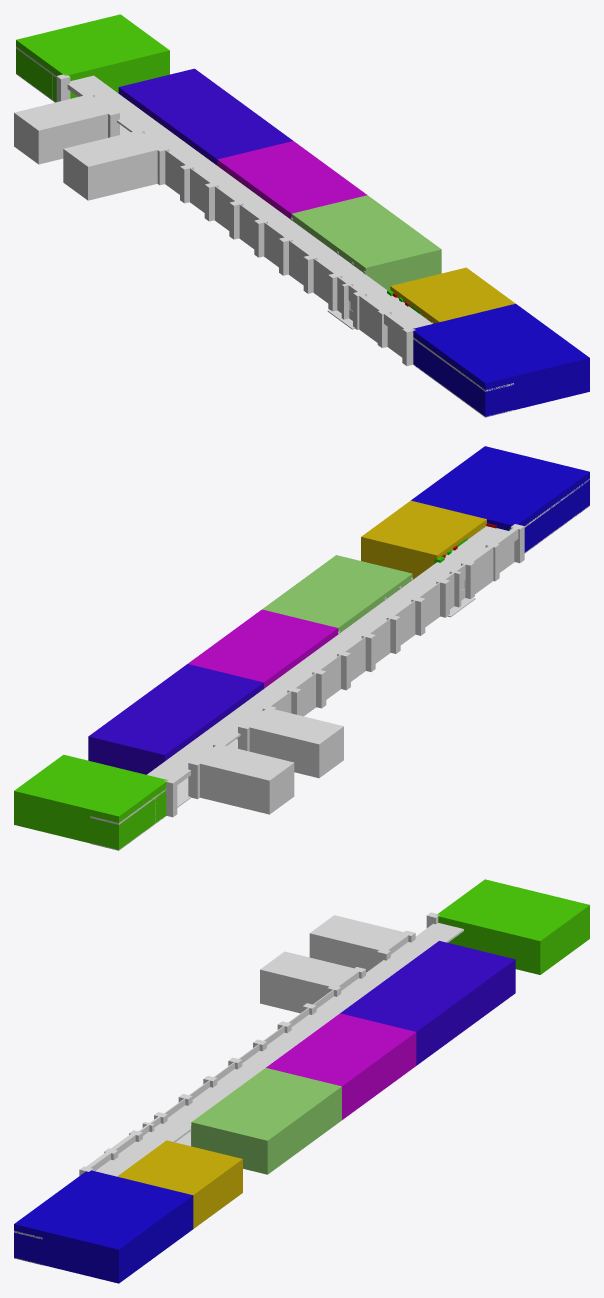
File: BaseModel_Ver5_2F.fbx
3 views of the same model, one above another, from view 1: azimuth 30°, elevation 25°; view 2: azimuth 150°, elevation 25°; view 3: azimuth 330°, elevation 25° (orthographic).
Parts seen in each view (by area): view 1: 部屋.002, 部屋, 事務室, 床.005, 職員室, 校長室, 部屋.003, 部屋.004, 部屋.001, Cube.047, Cube.031, Cube.049; view 2: 部屋, 部屋.002, 事務室, 床.005, 校長室, 職員室, 部屋.001, 部屋.004, 部屋.003, Cube.047, Cube.031, Cube.049 (+1 smaller); view 3: 部屋.002, 事務室, 職員室, 部屋, 校長室, 床.005, 部屋.001, 部屋.003, 部屋.004, Cube.047.
Part boxes in pixels (box(x1,y1,x2,y2)): 部屋.002: box(412, 303, 589, 416); 部屋: box(16, 14, 169, 102); 事務室: box(118, 68, 292, 165); 床.005: box(16, 46, 513, 391); 職員室: box(291, 195, 441, 290); 校長室: box(217, 141, 367, 219); 部屋.003: box(63, 132, 163, 200); 部屋.004: box(14, 95, 112, 164); 部屋.001: box(390, 267, 515, 323); Cube.047: box(165, 150, 336, 278); Cube.031: box(165, 172, 328, 303); Cube.049: box(359, 294, 410, 336); 部屋: box(14, 754, 168, 849); 部屋.002: box(411, 446, 589, 552); 事務室: box(88, 664, 263, 774); 床.005: box(90, 478, 589, 824); 校長室: box(188, 609, 338, 688); 職員室: box(262, 555, 412, 632); 部屋.001: box(361, 500, 486, 579); 部屋.004: box(195, 744, 294, 814); 部屋.003: box(245, 709, 343, 778); Cube.047: box(270, 580, 441, 710); Cube.031: box(301, 604, 439, 716); Cube.049: box(468, 526, 519, 570); 部屋.002: box(14, 1170, 193, 1283); 事務室: box(340, 941, 515, 1065); 職員室: box(191, 1068, 341, 1174); 部屋: box(436, 879, 589, 974); 校長室: box(266, 1013, 416, 1119); 床.005: box(14, 923, 463, 1239); 部屋.001: box(117, 1140, 242, 1228); 部屋.003: box(260, 951, 358, 1013); 部屋.004: box(309, 915, 408, 972); Cube.047: box(162, 989, 333, 1117).
Bounding box in the file's own units: 1900 × 359 × 8550.
